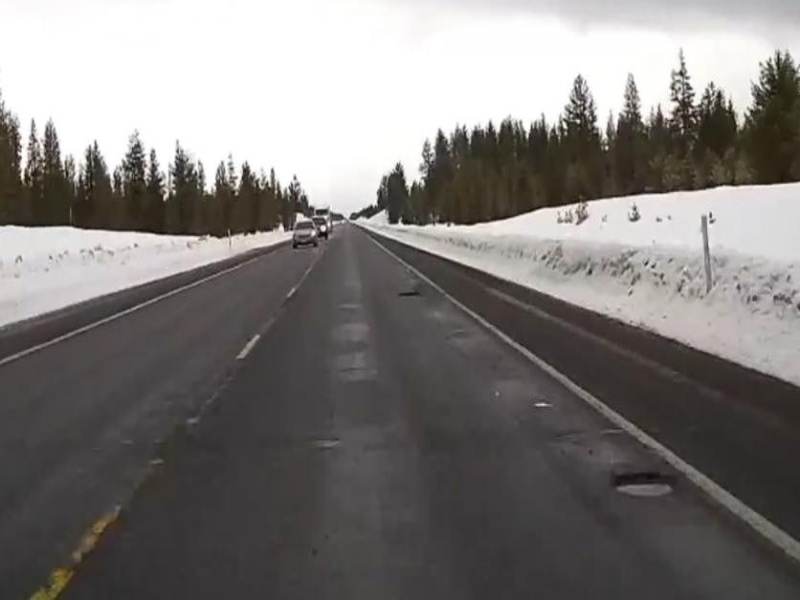pothole: (606, 469, 683, 501)
